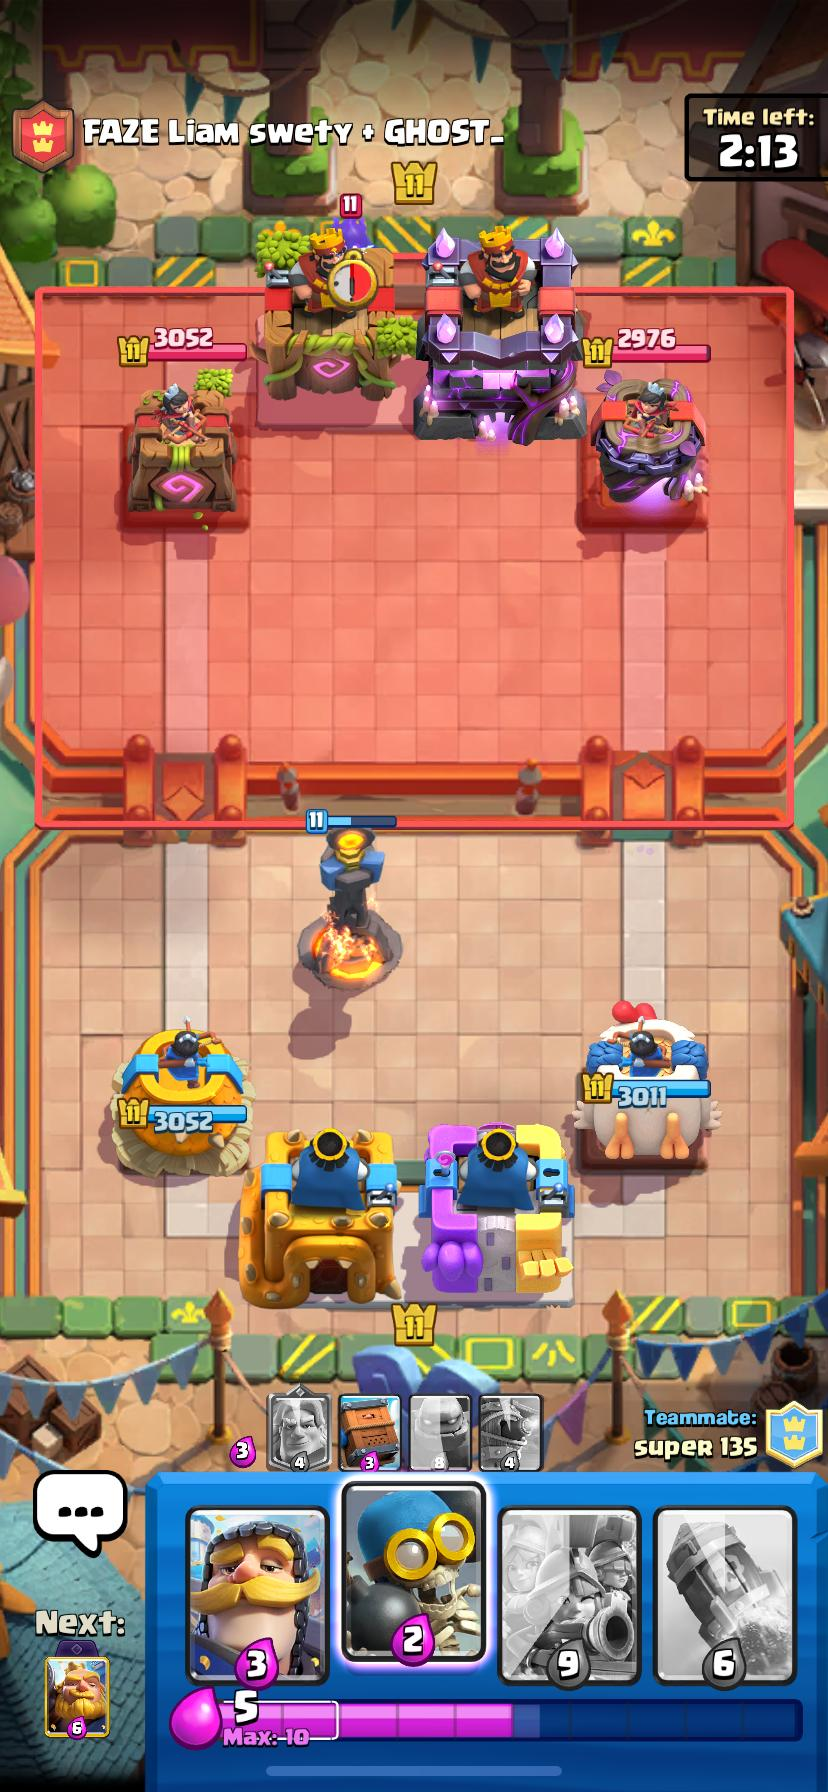EKingTower: (414, 225, 586, 445), (264, 218, 415, 401)
EnemyPrincessTower: (591, 379, 706, 521), (127, 384, 234, 512)
OInfernoTower: (298, 826, 401, 990)
OwnKingTower: (240, 1127, 403, 1306), (419, 1123, 573, 1301)
OwnPrincessTower: (575, 1001, 719, 1167), (111, 1023, 253, 1175)
